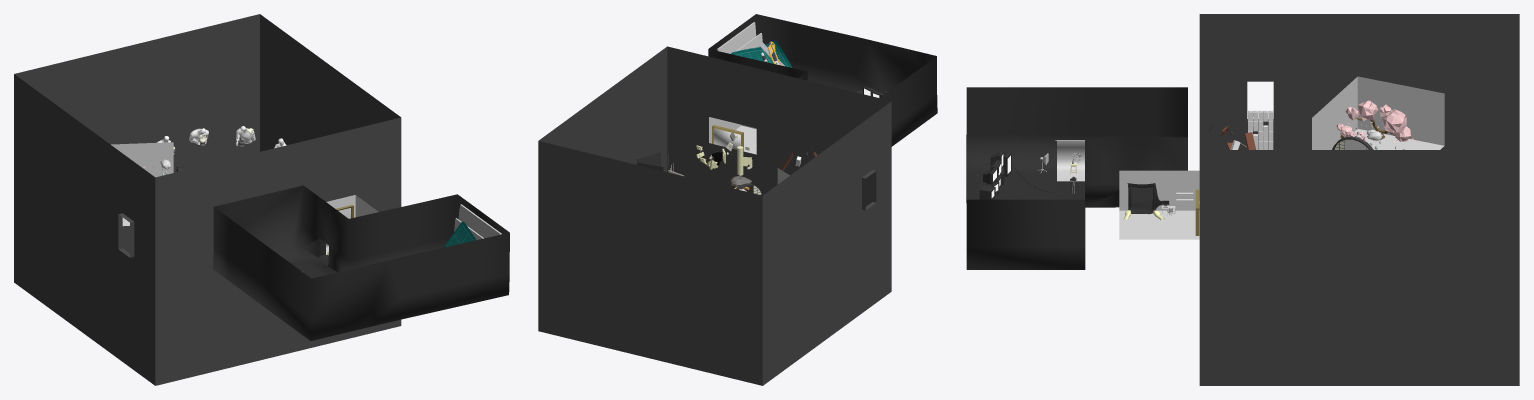
The model's file is stage-test-17.glb.
3 renders of one model, left to right at view 1: azimuth 30°, elevation 25°; view 2: azimuth 150°, elevation 25°; view 3: azimuth 270°, elevation 25°, orthographic. The views are drawn at different scales.
Parts seen in each view (by area): view 1: gallery-ground, monitor-screen-world, digital-world, foam-board-02, comforting-dinner-baked-johns.003, room; view 2: gallery-ground, monitor-screen-world, room, cutting-mat, foam-board-02, picture-frame-glass; view 3: gallery-ground, monitor-screen-world, digital-world, room, tree-leaves-low-poly.009, photo-screen.001, glass-brick-window-modified.
Part boxes in pixels (x1,y1,x2,y2): gallery-ground: (14,14,401,385); monitor-screen-world: (213,185,509,340); digital-world: (111,142,173,226); foam-board-02: (459,204,501,238); comforting-dinner-baked-johns.003: (157,126,286,154); room: (326,195,378,254); gallery-ground: (538,46,891,385); monitor-screen-world: (708,14,937,146); room: (709,117,756,154); cutting-mat: (731,40,792,67); foam-board-02: (717,22,756,53); picture-frame-glass: (713,128,740,149); gallery-ground: (1199,14,1519,385); monitor-screen-world: (966,87,1187,269); digital-world: (1312,76,1444,149); room: (1119,170,1199,239); tree-leaves-low-poly.009: (1345,100,1410,141); photo-screen.001: (1057,140,1084,181); glass-brick-window-modified: (1248,110,1273,149).
Size of the model in its own units: 423 by 329 by 699.
Materials: 63 (3 with a texture image).
